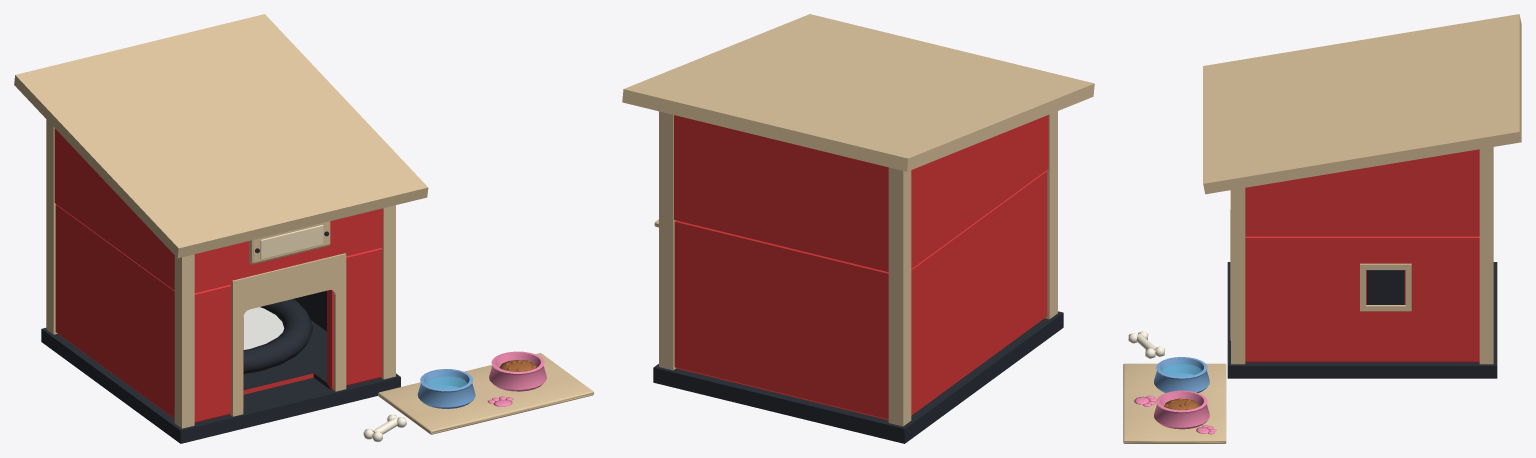
The model's file is casinha-moderna.glb.
3 views of the same model, side by side, from view 1: azimuth 30°, elevation 25°; view 2: azimuth 150°, elevation 25°; view 3: azimuth 270°, elevation 25° (orthographic). The views are drawn at different scales.
Visible parts, largest first — view 1: casinha, texto, placa; view 2: casinha; view 3: casinha.
Part boxes in pixels (<box>): casinha: <box>14,14,593,443</box>; texto: <box>260,225,323,259</box>; placa: <box>249,221,330,264</box>; casinha: <box>622,14,1094,443</box>; casinha: <box>1123,14,1521,443</box>.
Bounding box in the file's own units: 1.79 × 1.19 × 1.7.
